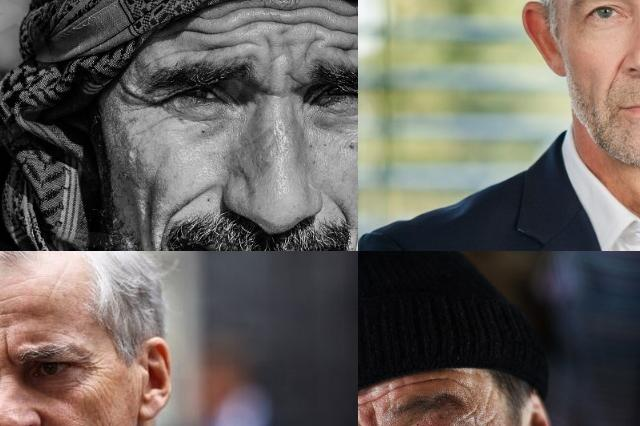crows_feet: (124, 85, 154, 115), (79, 351, 95, 375)
forehead: (310, 0, 358, 37), (186, 18, 242, 48), (255, 0, 303, 31), (398, 375, 474, 389), (325, 33, 358, 65), (358, 394, 398, 412), (44, 274, 61, 300), (0, 294, 22, 307), (0, 309, 24, 320)
frown_line: (284, 64, 302, 92), (0, 334, 10, 367), (368, 416, 389, 426)
gummy_smile: (161, 182, 207, 218), (330, 196, 356, 228), (606, 55, 626, 89)
